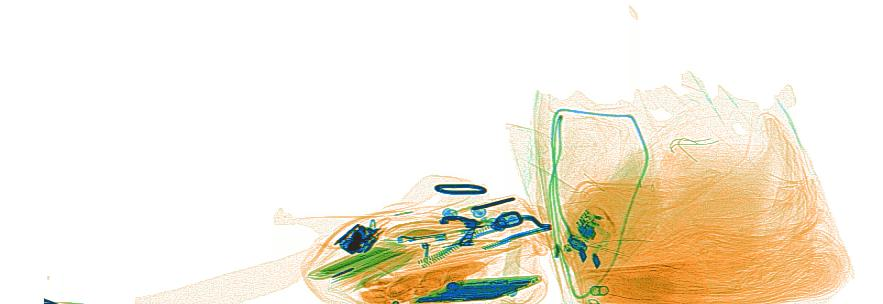plasticBottleWithaNozzle: (575, 262, 683, 301)
